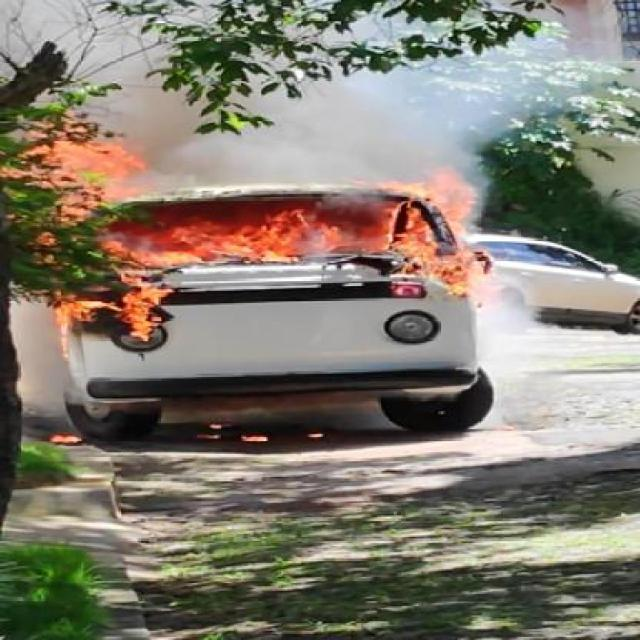Fire: (1, 100, 484, 340), (52, 422, 86, 444), (242, 429, 272, 448), (306, 424, 324, 444)
